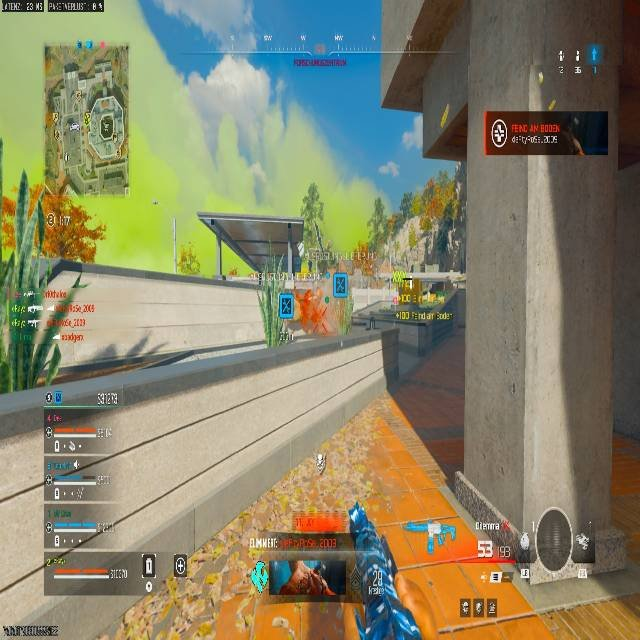head: (305, 287, 312, 297)
player: (303, 286, 328, 336)
